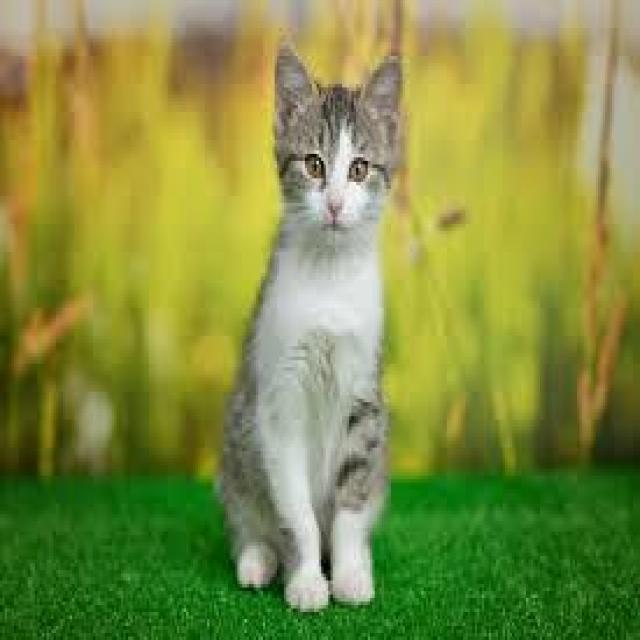Cat: (264, 29, 411, 259)
